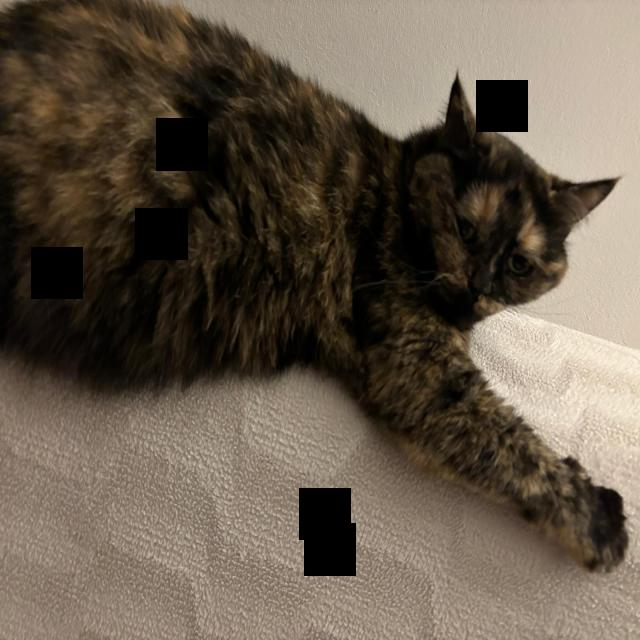authorized: (1, 0, 630, 574)
